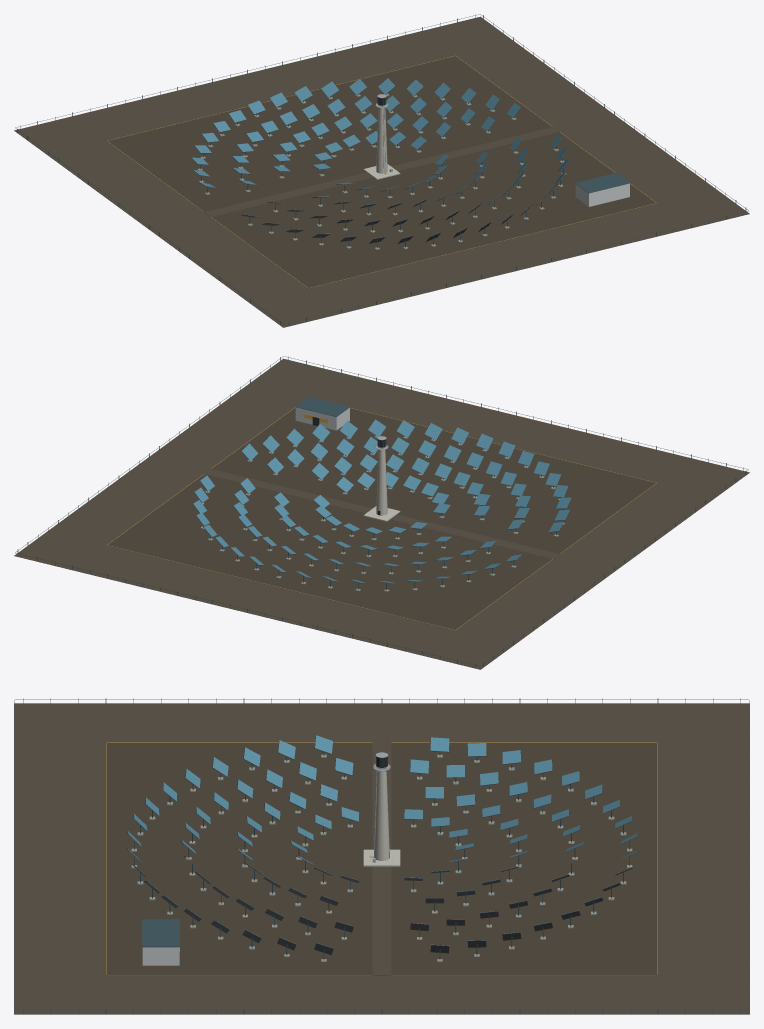
The model's file is tower_station_preview.glb.
The picture shows the model from 3 angles, top to bottom: view 1: azimuth 30°, elevation 25°; view 2: azimuth 150°, elevation 25°; view 3: azimuth 270°, elevation 25°; orthographic projection. The views are drawn at different scales.
Parts seen in each view (by area): view 1: Usable120m, Site160m, RadialServiceRoad, FutureServiceBuilding, TowerDetail_concrete, FutureServiceRoof; view 2: Usable120m, Site160m, RadialServiceRoad, FutureServiceBuilding, TowerDetail_concrete, FutureServiceRoof; view 3: Usable120m, Site160m, RadialServiceRoad, TowerDetail_concrete, FutureServiceRoof, ExteriorFence.002, ExteriorFence.003, FutureServiceBuilding, NetBoundary.003.
Boxes of the visible parts, bbox=[...] form: Usable120m: bbox=[106, 55, 657, 288]; Site160m: bbox=[14, 16, 749, 327]; RadialServiceRoad: bbox=[204, 127, 559, 216]; FutureServiceBuilding: bbox=[575, 183, 629, 206]; TowerDetail_concrete: bbox=[376, 105, 387, 173]; FutureServiceRoof: bbox=[575, 173, 629, 193]; Usable120m: bbox=[106, 407, 657, 630]; Site160m: bbox=[14, 358, 749, 669]; RadialServiceRoad: bbox=[204, 469, 559, 558]; FutureServiceBuilding: bbox=[295, 407, 349, 430]; TowerDetail_concrete: bbox=[376, 447, 387, 515]; FutureServiceRoof: bbox=[295, 396, 349, 416]; Usable120m: bbox=[106, 742, 657, 975]; Site160m: bbox=[14, 703, 749, 1014]; RadialServiceRoad: bbox=[372, 742, 391, 975]; TowerDetail_concrete: bbox=[374, 768, 389, 860]; FutureServiceRoof: bbox=[142, 919, 179, 947]; ExteriorFence.002: bbox=[15, 699, 748, 699]; ExteriorFence.003: bbox=[15, 1010, 748, 1010]; FutureServiceBuilding: bbox=[142, 947, 179, 965]; NetBoundary.003: bbox=[107, 975, 656, 975].
Size of the model in its own units: 16 by 2.5 by 16.
